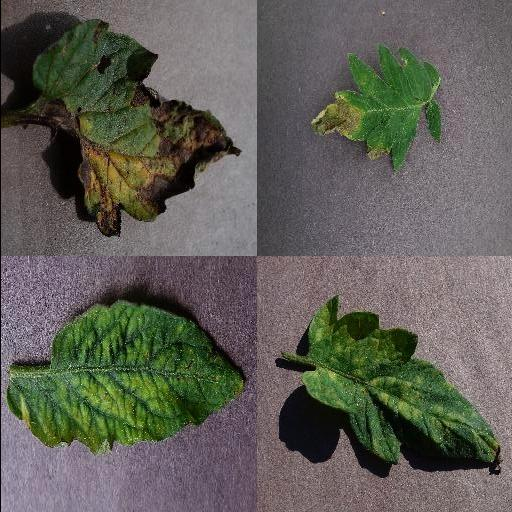Early Blight: (31, 23, 243, 238)
Late Blight: (309, 45, 441, 171)
Leaf Mold: (301, 293, 501, 465)
Mosaic Virus: (4, 296, 244, 454)
